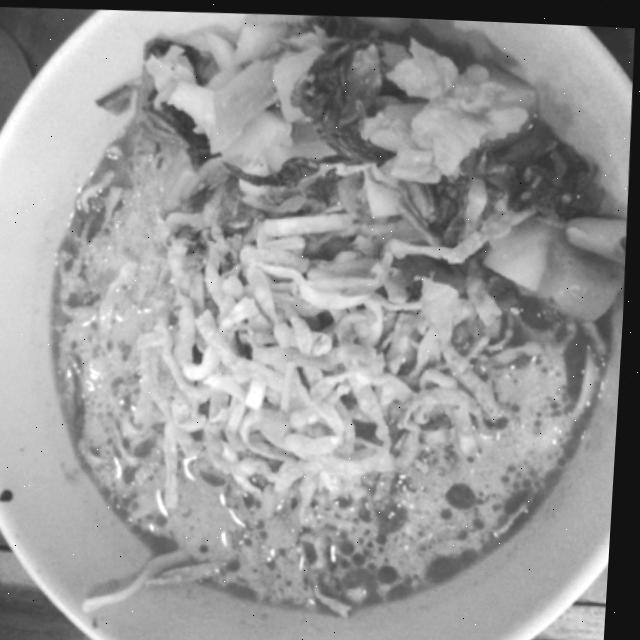面条主食: (0, 1, 640, 637)
